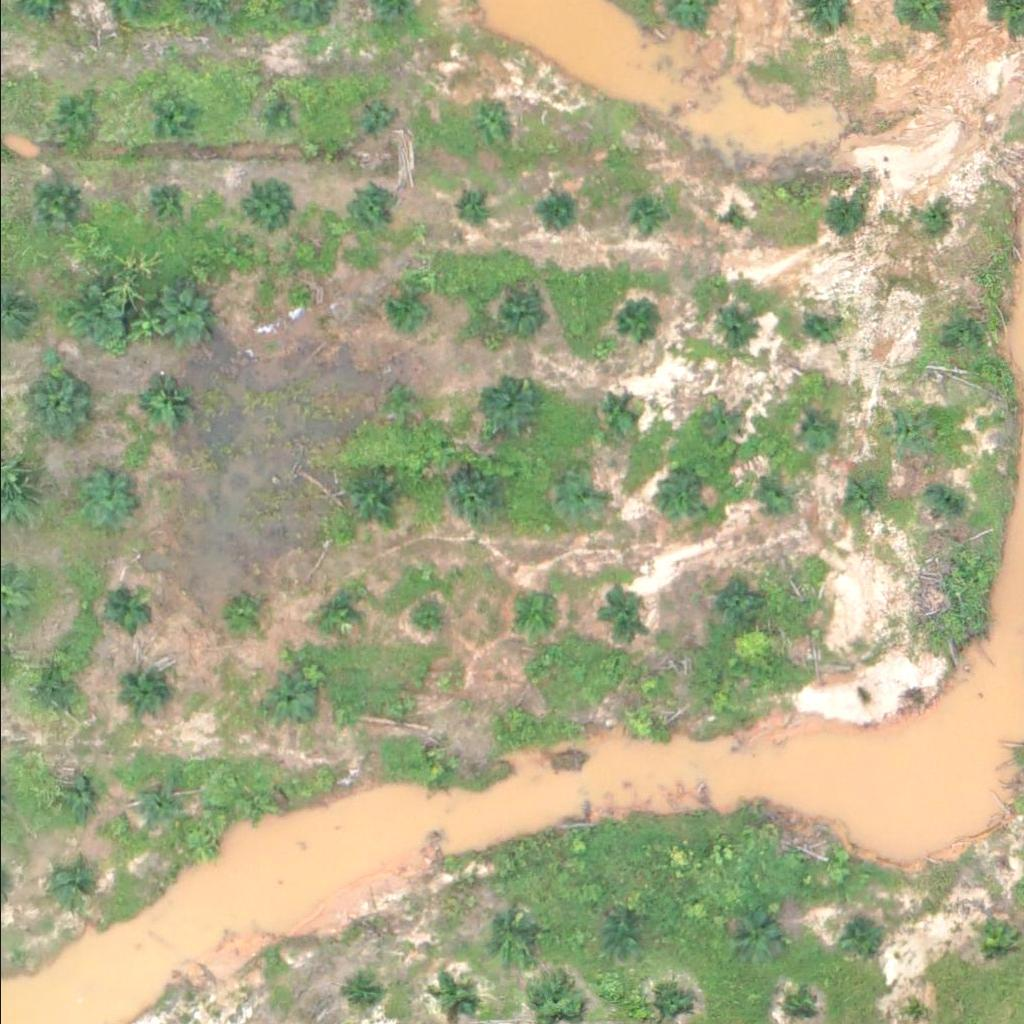Kelapa_Sawit: (478, 371, 541, 434), (125, 369, 188, 432), (25, 373, 88, 436), (542, 468, 605, 531), (149, 283, 212, 346), (73, 467, 136, 529), (60, 285, 123, 347), (447, 475, 498, 525), (344, 474, 395, 524), (242, 180, 293, 230), (312, 585, 363, 635), (967, 915, 1018, 965), (493, 287, 544, 337), (612, 299, 663, 349), (657, 476, 707, 526), (33, 176, 83, 226), (125, 669, 175, 719), (100, 587, 150, 637), (53, 94, 103, 144), (130, 776, 180, 826), (261, 675, 311, 725), (45, 772, 95, 822), (46, 858, 96, 908), (21, 666, 71, 716), (141, 180, 191, 230), (145, 93, 195, 143), (593, 589, 643, 639), (503, 587, 553, 637), (728, 911, 778, 961), (708, 580, 758, 630), (477, 913, 527, 963), (235, 784, 273, 822), (224, 596, 262, 634), (258, 91, 296, 129), (434, 974, 472, 1012), (343, 975, 381, 1013), (383, 688, 421, 726), (496, 698, 534, 736), (621, 704, 659, 742), (839, 915, 877, 953), (917, 202, 955, 240), (531, 196, 569, 234), (451, 190, 489, 228), (803, 314, 841, 352), (761, 482, 799, 520), (848, 482, 886, 520), (923, 481, 961, 519), (387, 290, 425, 328), (421, 752, 459, 789), (601, 915, 639, 952), (823, 192, 860, 230), (707, 201, 744, 239), (623, 198, 660, 236), (720, 310, 757, 348), (923, 325, 961, 362), (886, 410, 924, 447), (794, 415, 832, 452), (698, 405, 736, 442), (474, 103, 512, 140), (381, 386, 419, 423), (355, 187, 393, 224), (357, 95, 395, 132), (403, 598, 440, 635), (595, 396, 632, 433), (785, 994, 810, 1019)
